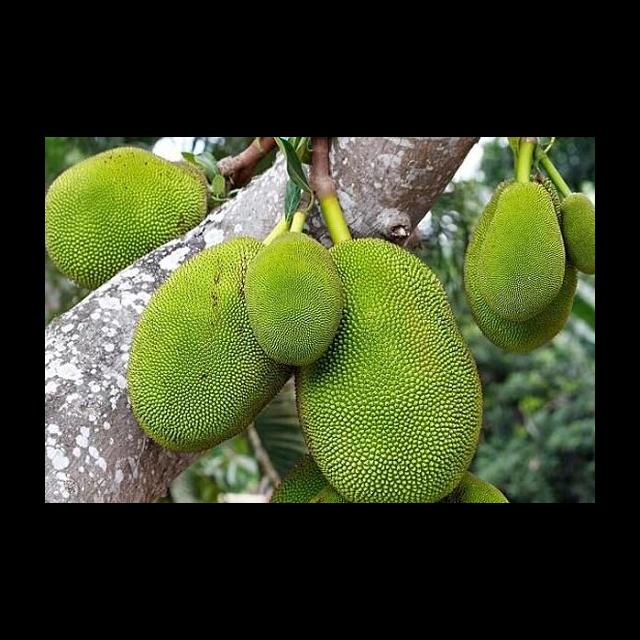mit: (302, 236, 482, 502), (126, 237, 301, 453), (45, 146, 212, 287), (460, 178, 574, 353), (245, 229, 345, 366), (560, 192, 594, 279)
